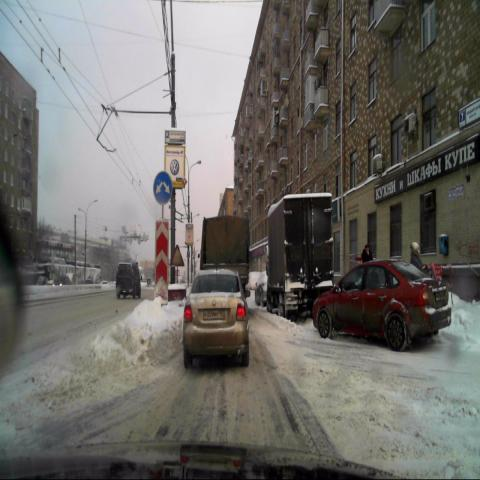4_2_3: (153, 170, 172, 204)
